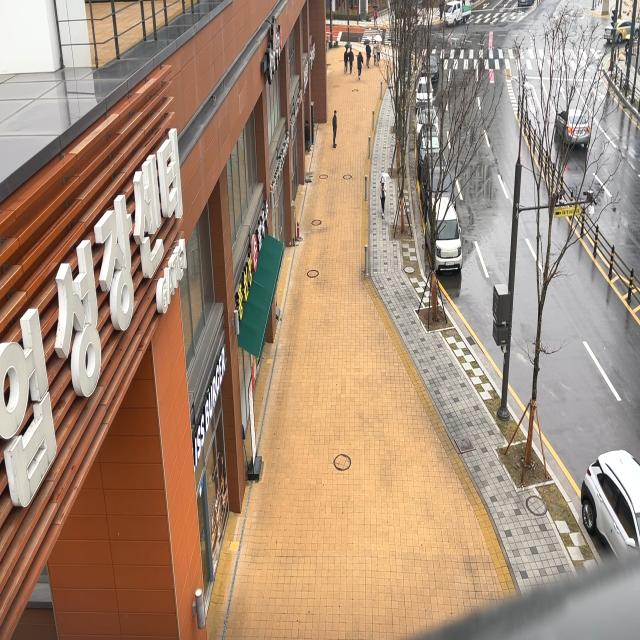Car: (572, 425, 640, 575), (424, 198, 464, 274), (552, 96, 593, 152), (420, 154, 454, 216), (412, 99, 444, 143), (604, 11, 640, 46), (417, 129, 443, 165), (420, 53, 448, 86), (414, 80, 437, 112)
Truck: (441, 0, 475, 28)
